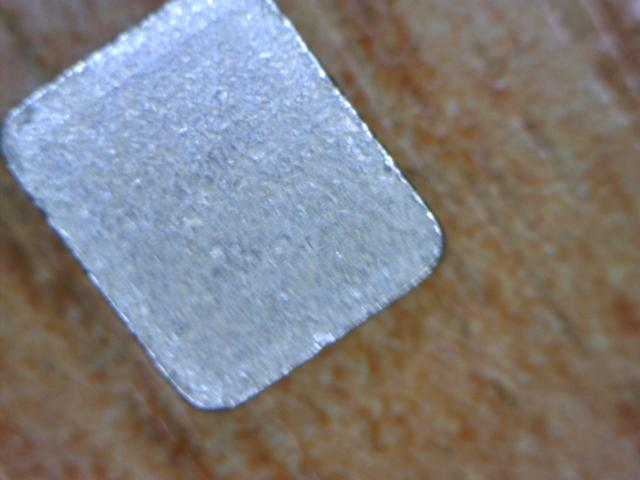ok: (11, 11, 447, 417)
